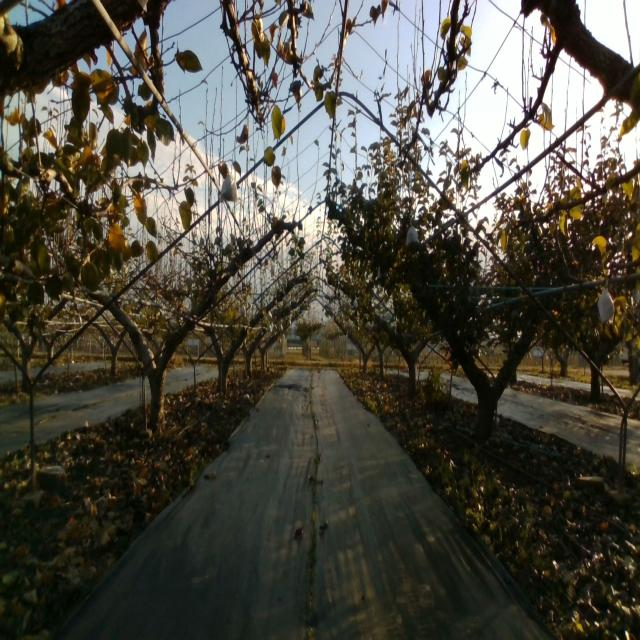pearbags: (218, 166, 238, 203), (597, 287, 615, 323), (405, 221, 419, 246)
